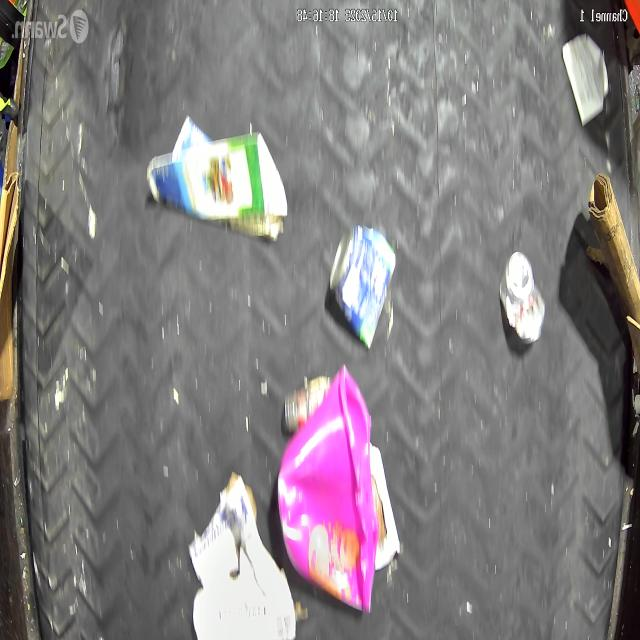can: (327, 221, 398, 353), (496, 248, 549, 348)
non_white_jug: (271, 368, 379, 617)
